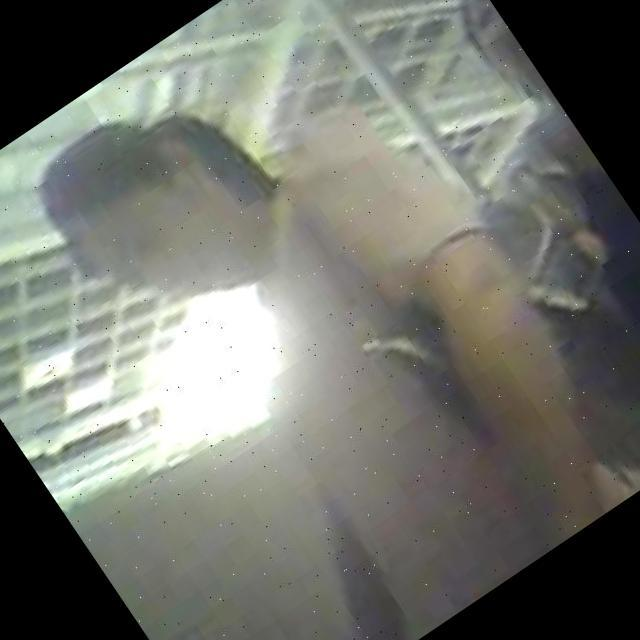person: (6, 0, 640, 640), (382, 0, 640, 458)
